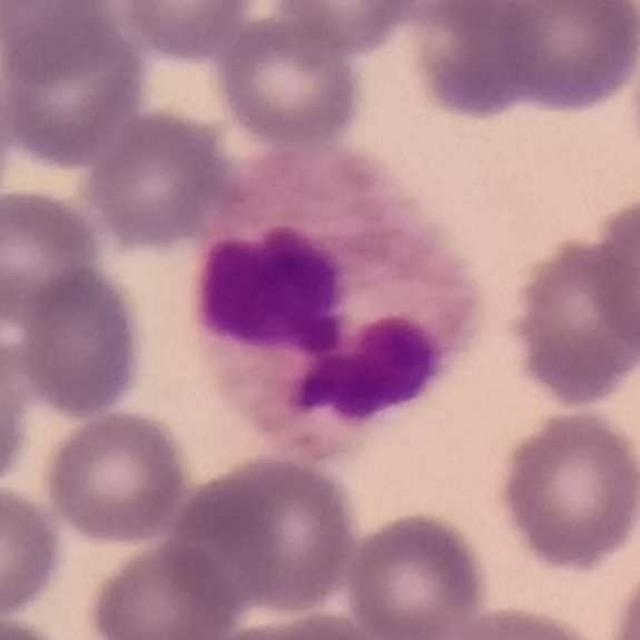Neutrophil: (182, 137, 501, 460)
RBC: (171, 451, 362, 615), (501, 229, 640, 410), (0, 3, 150, 169), (494, 404, 640, 574), (210, 5, 368, 152), (39, 405, 194, 549), (13, 260, 150, 421), (80, 106, 233, 249), (341, 507, 492, 640), (395, 0, 547, 127), (478, 0, 640, 117), (83, 537, 241, 640), (0, 185, 106, 325), (0, 0, 126, 82), (0, 480, 69, 621), (584, 189, 640, 362), (265, 0, 428, 57), (115, 0, 258, 60), (202, 606, 400, 640), (438, 602, 610, 640), (0, 313, 35, 495), (621, 2, 640, 179), (604, 550, 640, 640), (0, 609, 78, 640)
